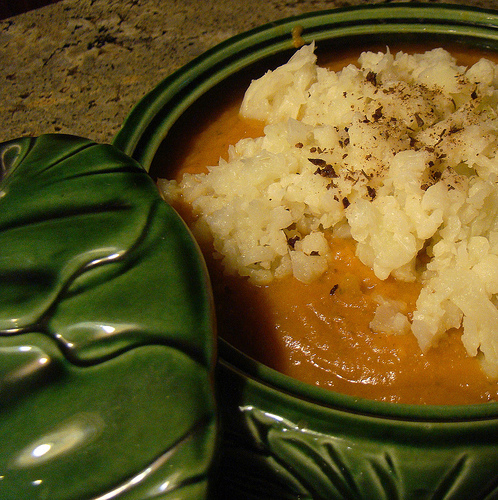cauliflower: (151, 38, 495, 383)
